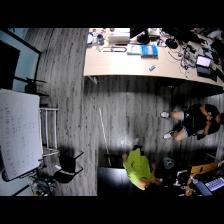normal: (160, 102, 224, 142), (120, 136, 159, 193)
